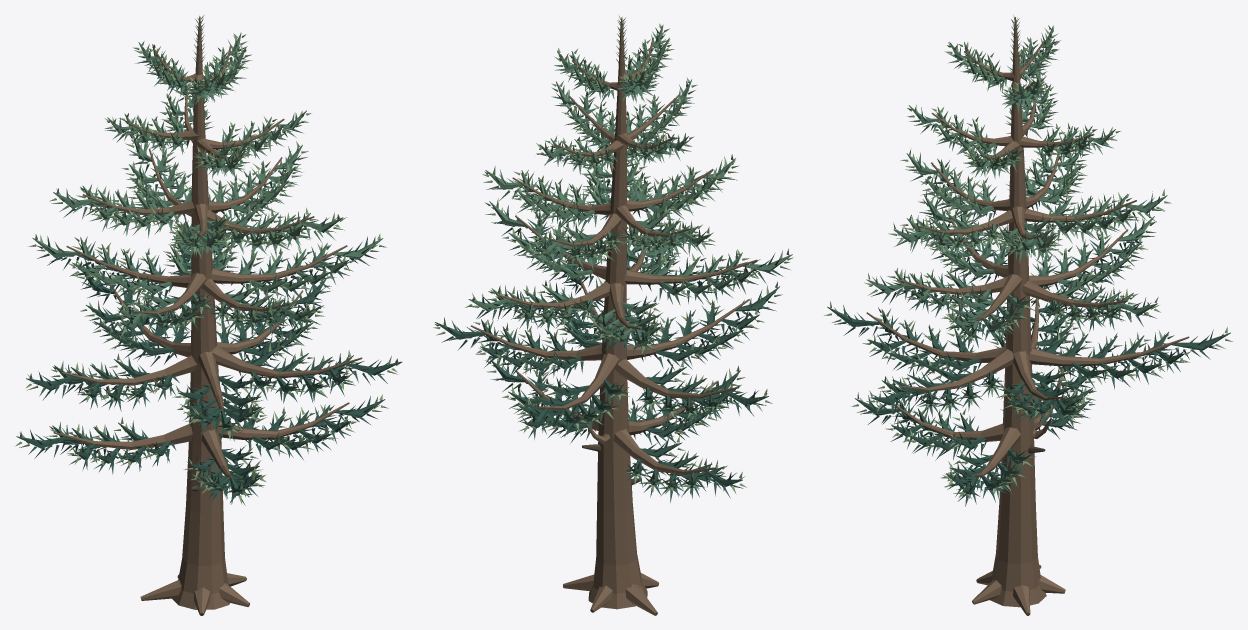
The model's file is conifer-tree.glb.
The picture shows the model from 3 angles, left to right: view 1: azimuth 30°, elevation 25°; view 2: azimuth 150°, elevation 25°; view 3: azimuth 270°, elevation 25°; orthographic projection.
Visible parts, largest first — view 1: conifer-tree consolidated delivery mesh; view 2: conifer-tree consolidated delivery mesh; view 3: conifer-tree consolidated delivery mesh.
Part boxes in pixels (box(x1,y1,x2,y2)): conifer-tree consolidated delivery mesh: box(15, 15, 402, 615); conifer-tree consolidated delivery mesh: box(433, 15, 793, 615); conifer-tree consolidated delivery mesh: box(824, 14, 1232, 615).
Bounding box in the file's own units: 4.11 × 7.07 × 4.55.
